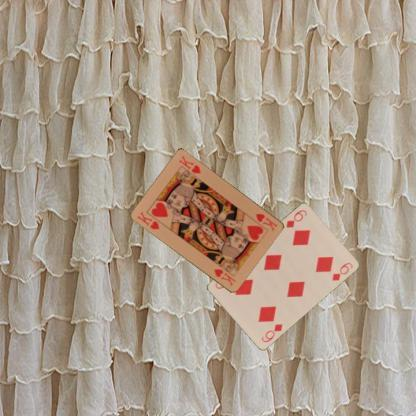6d: (259, 321, 284, 344), (284, 207, 308, 229)
Kh: (252, 210, 278, 233), (135, 209, 161, 231)
